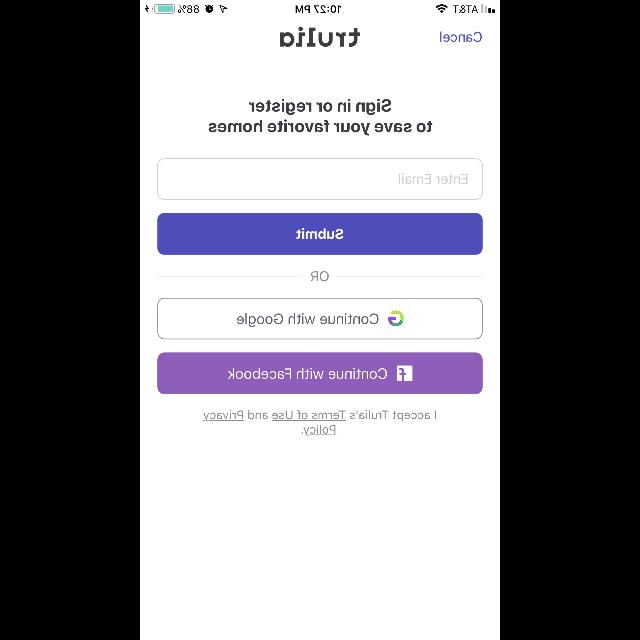input: (158, 158, 482, 200)
text: (208, 98, 432, 136), (204, 410, 436, 436), (280, 27, 360, 48), (399, 173, 467, 184), (439, 33, 481, 43), (311, 270, 329, 282)
textbutton: (158, 352, 482, 394), (158, 298, 482, 340), (158, 213, 482, 255)
uppertaskbar: (140, 0, 500, 14)
